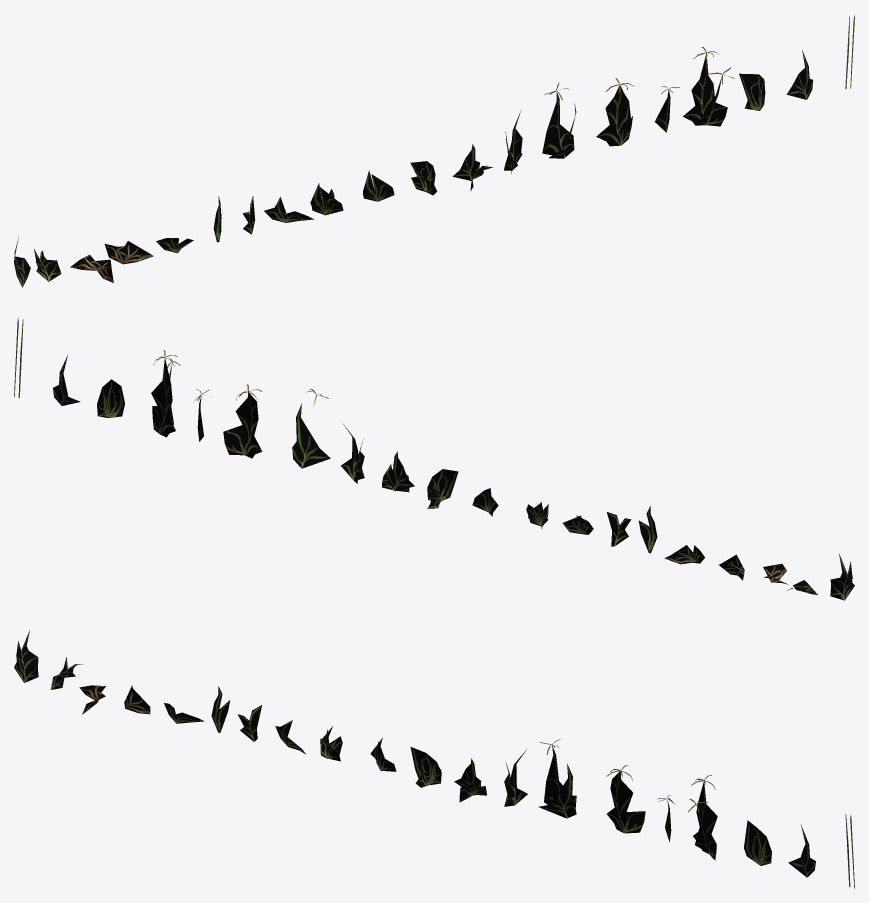
The model's file is ph-grass_bermuda_01.glb.
3 renders of one model, top to bottom at view 1: azimuth 30°, elevation 25°; view 2: azimuth 150°, elevation 25°; view 3: azimuth 330°, elevation 25°, orthographic.
Parts seen in each view (by area): view 1: grass_bermuda_01_dead_a; view 2: grass_bermuda_01_dead_a; view 3: grass_bermuda_01_dead_a.
Boxes of the visible parts, bbox=[...] form: grass_bermuda_01_dead_a: bbox=[14, 15, 854, 287]; grass_bermuda_01_dead_a: bbox=[14, 317, 854, 600]; grass_bermuda_01_dead_a: bbox=[14, 630, 854, 888].
Size of the model in its own units: 1.69 by 0.1583 by 0.1422.
Materials: 1 (1 with a texture image).
